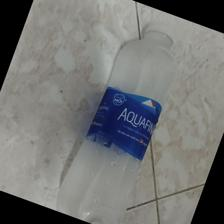Aquafina: (56, 22, 178, 224)
